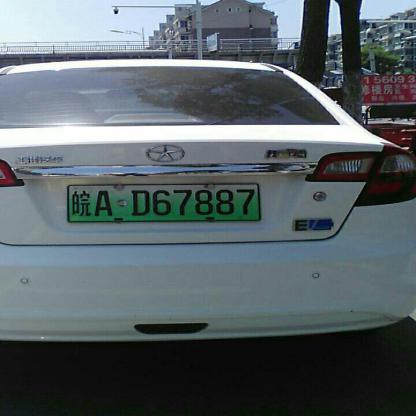lp: (67, 184, 261, 221)
